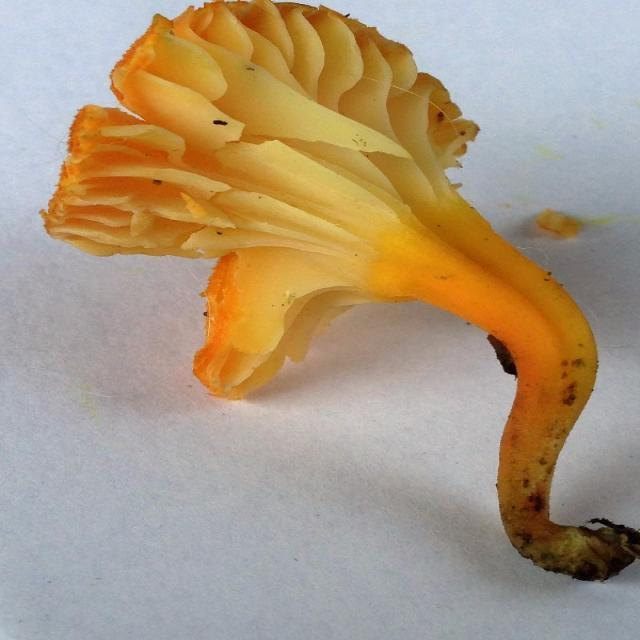Cantharellus cibarius: (47, 0, 640, 584)
